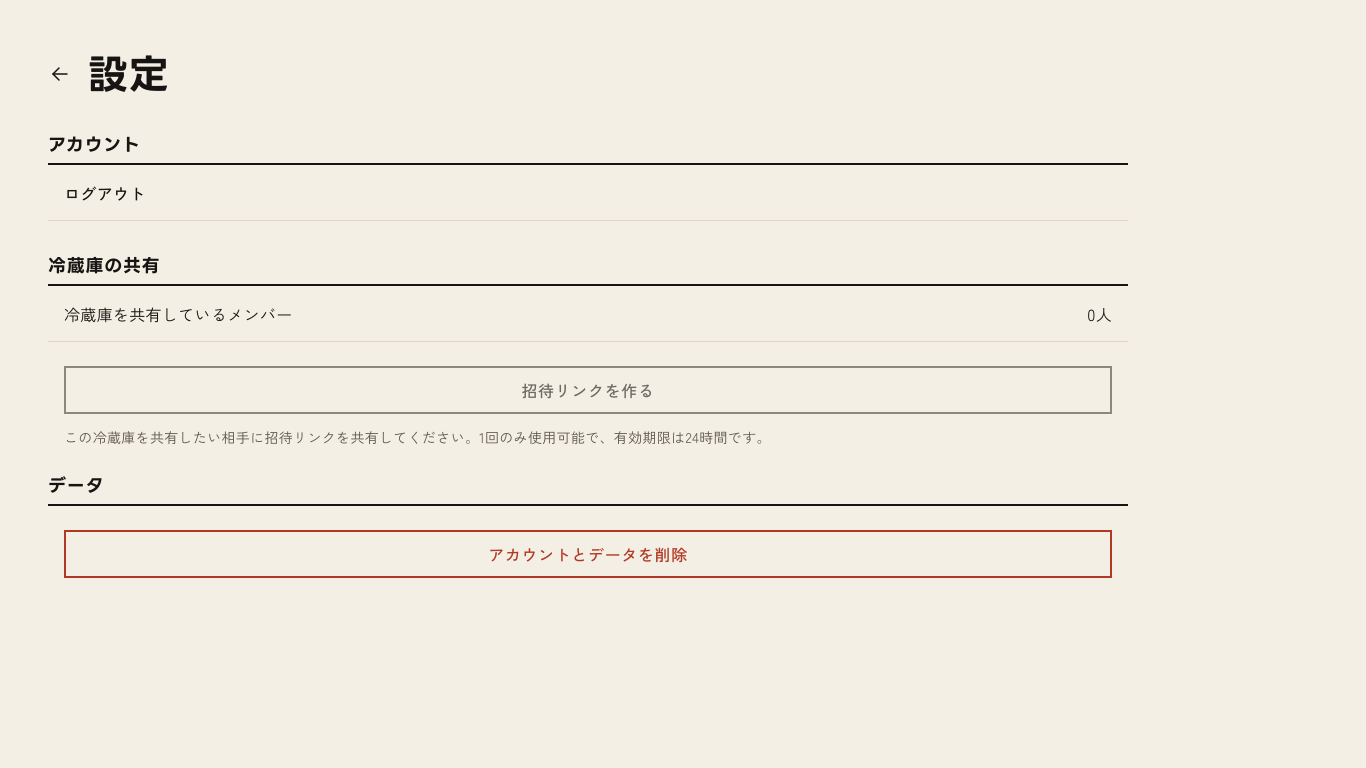
設定画面 SettingsScreen の接続が切れている間 › 接続が切れている間は、確認の中の削除の操作が押せない
This screenshot has width=1366, height=768.
Click the button "アカウントとデータを削除" at coordinates (588, 554), box [64,530,1112,578]
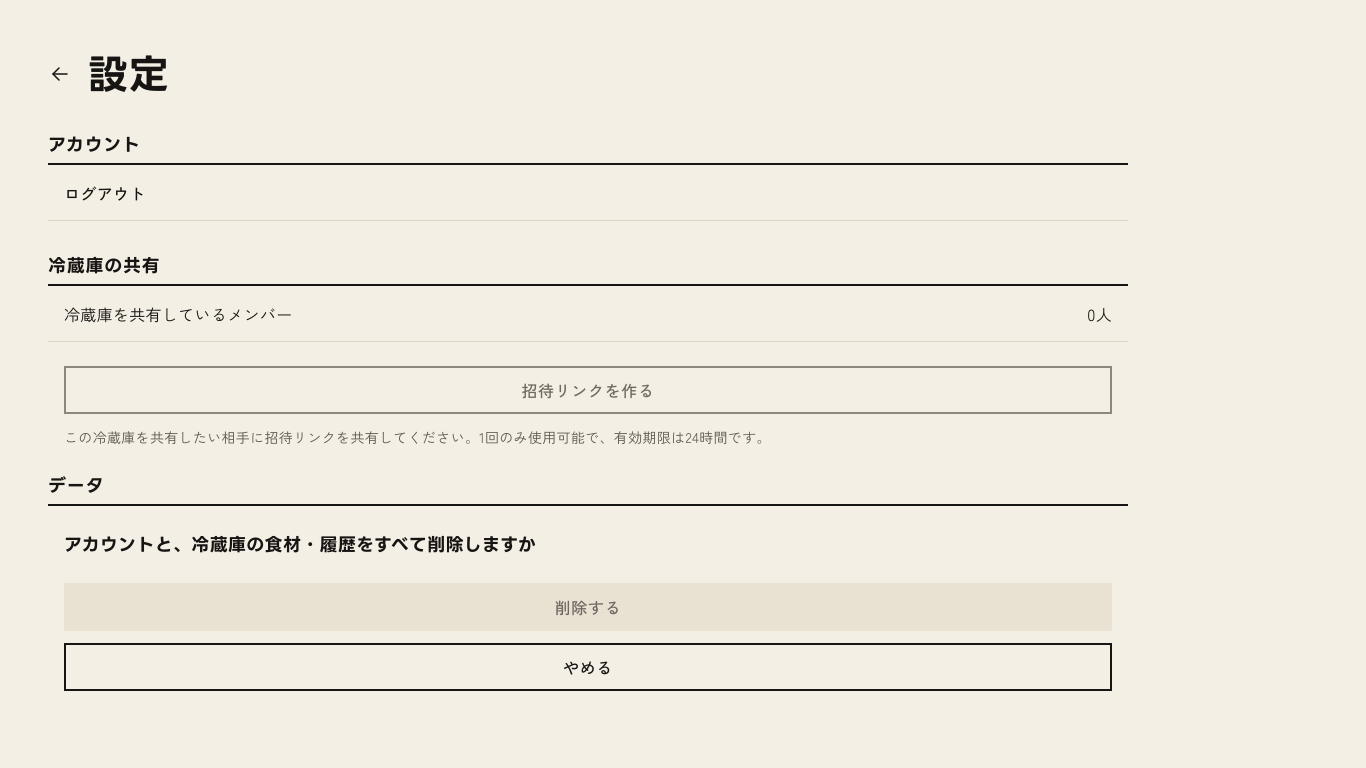
Expected: the button "削除する" is disabled, [64,583,1112,631]
